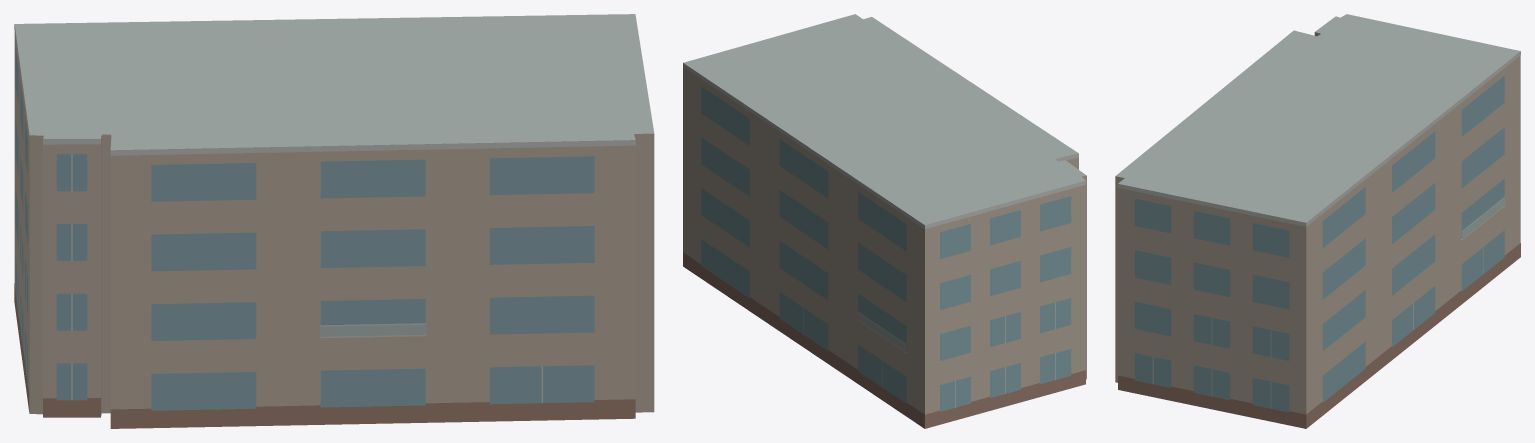
Rendered from survey-upis-32887405.glb.
3 views of the same model, side by side, from view 1: azimuth 30°, elevation 25°; view 2: azimuth 150°, elevation 25°; view 3: azimuth 270°, elevation 25° (orthographic). The views are drawn at different scales.
Parts seen in each view (by area): view 1: survey-upis-32887405.tmp; view 2: survey-upis-32887405.tmp; view 3: survey-upis-32887405.tmp.
Boxes of the visible parts, bbox=[...] form: survey-upis-32887405.tmp: bbox=[14, 14, 654, 428]; survey-upis-32887405.tmp: bbox=[683, 14, 1086, 428]; survey-upis-32887405.tmp: bbox=[1115, 14, 1520, 428].
Bounding box in the file's own units: 26.84 × 12.35 × 22.04.
